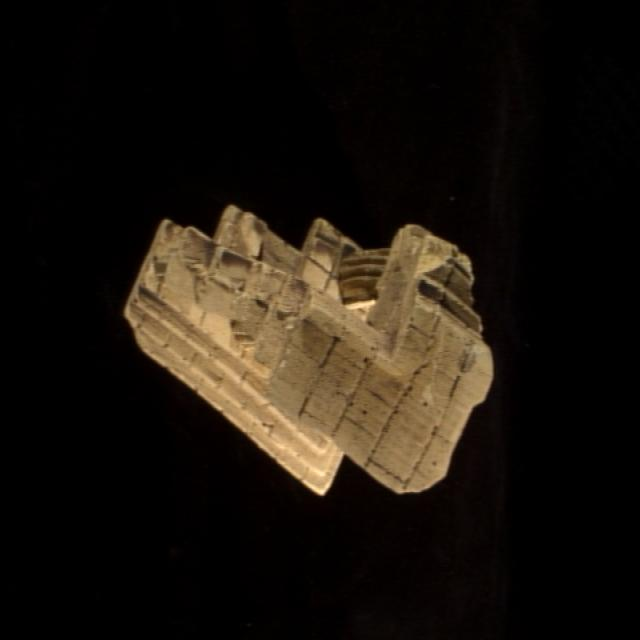Instance-Segmentation: (125, 207, 492, 493)
